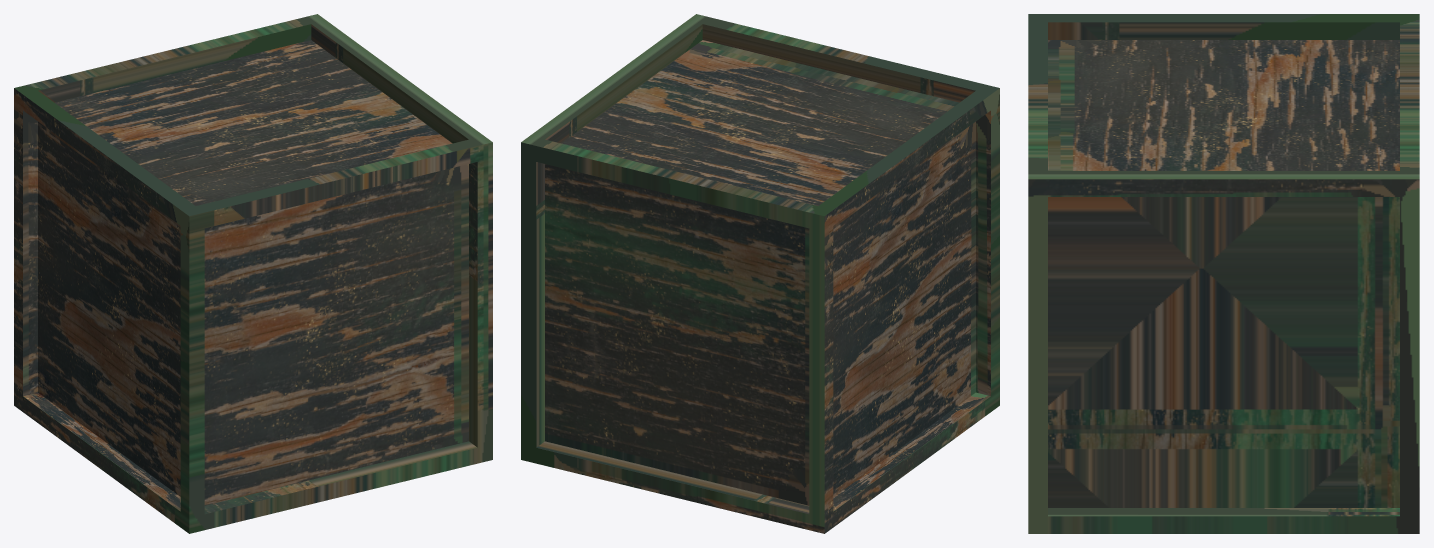
The model's file is caja_final.fbx.
3 views of the same model, side by side, from view 1: azimuth 30°, elevation 25°; view 2: azimuth 150°, elevation 25°; view 3: azimuth 270°, elevation 25° (orthographic). The views are drawn at different scales.
Parts seen in each view (by area): view 1: CAJA_PARA_VIDEOJUEGOS; view 2: CAJA_PARA_VIDEOJUEGOS; view 3: CAJA_PARA_VIDEOJUEGOS.
Part boxes in pixels (x1=…): CAJA_PARA_VIDEOJUEGOS: x1=14, y1=14, x2=492, y2=533; CAJA_PARA_VIDEOJUEGOS: x1=521, y1=14, x2=999, y2=533; CAJA_PARA_VIDEOJUEGOS: x1=1028, y1=14, x2=1419, y2=533.
Bounding box in the file's own units: 1 × 1 × 1.
